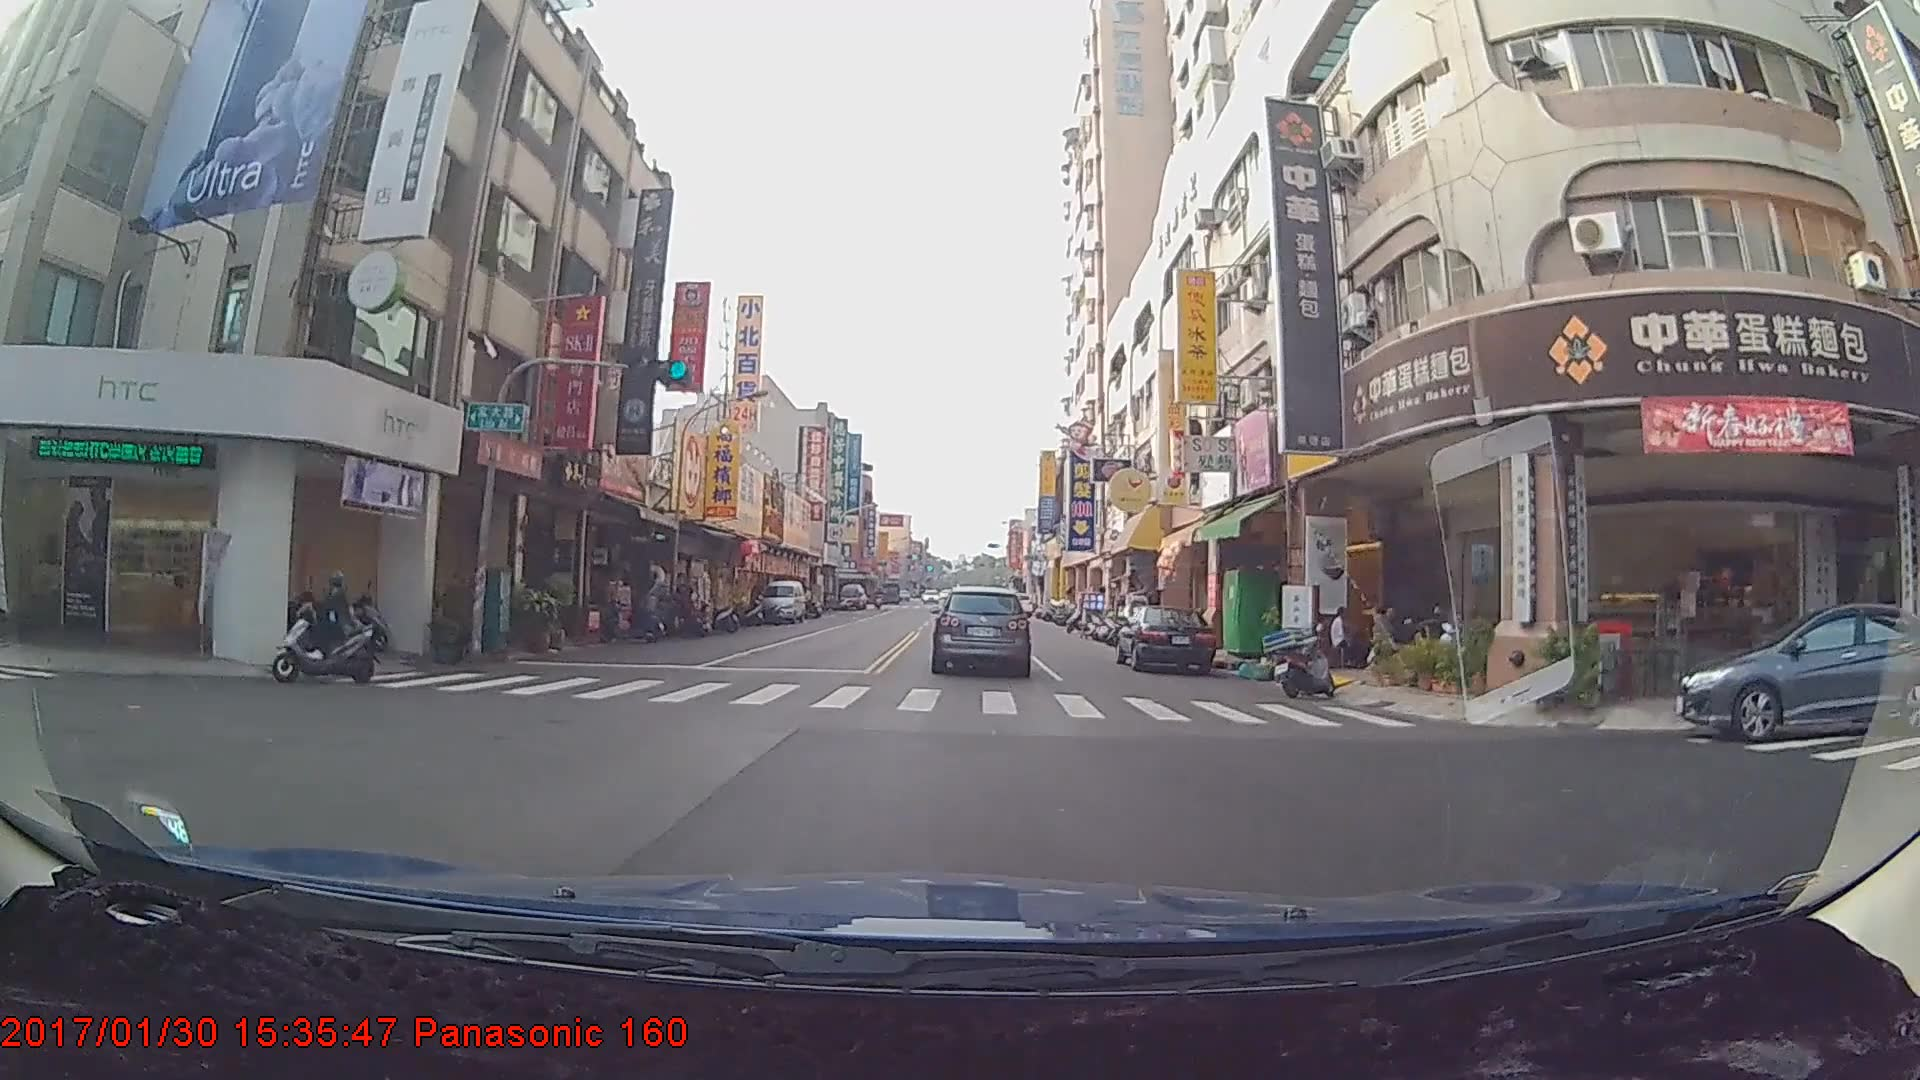pedestrian: (1361, 601, 1395, 668), (1326, 599, 1357, 664)
rider: (268, 564, 386, 682)
vehicle: (1679, 602, 1920, 741), (932, 587, 1030, 674), (1120, 603, 1215, 673), (753, 576, 805, 621), (840, 583, 868, 611)
